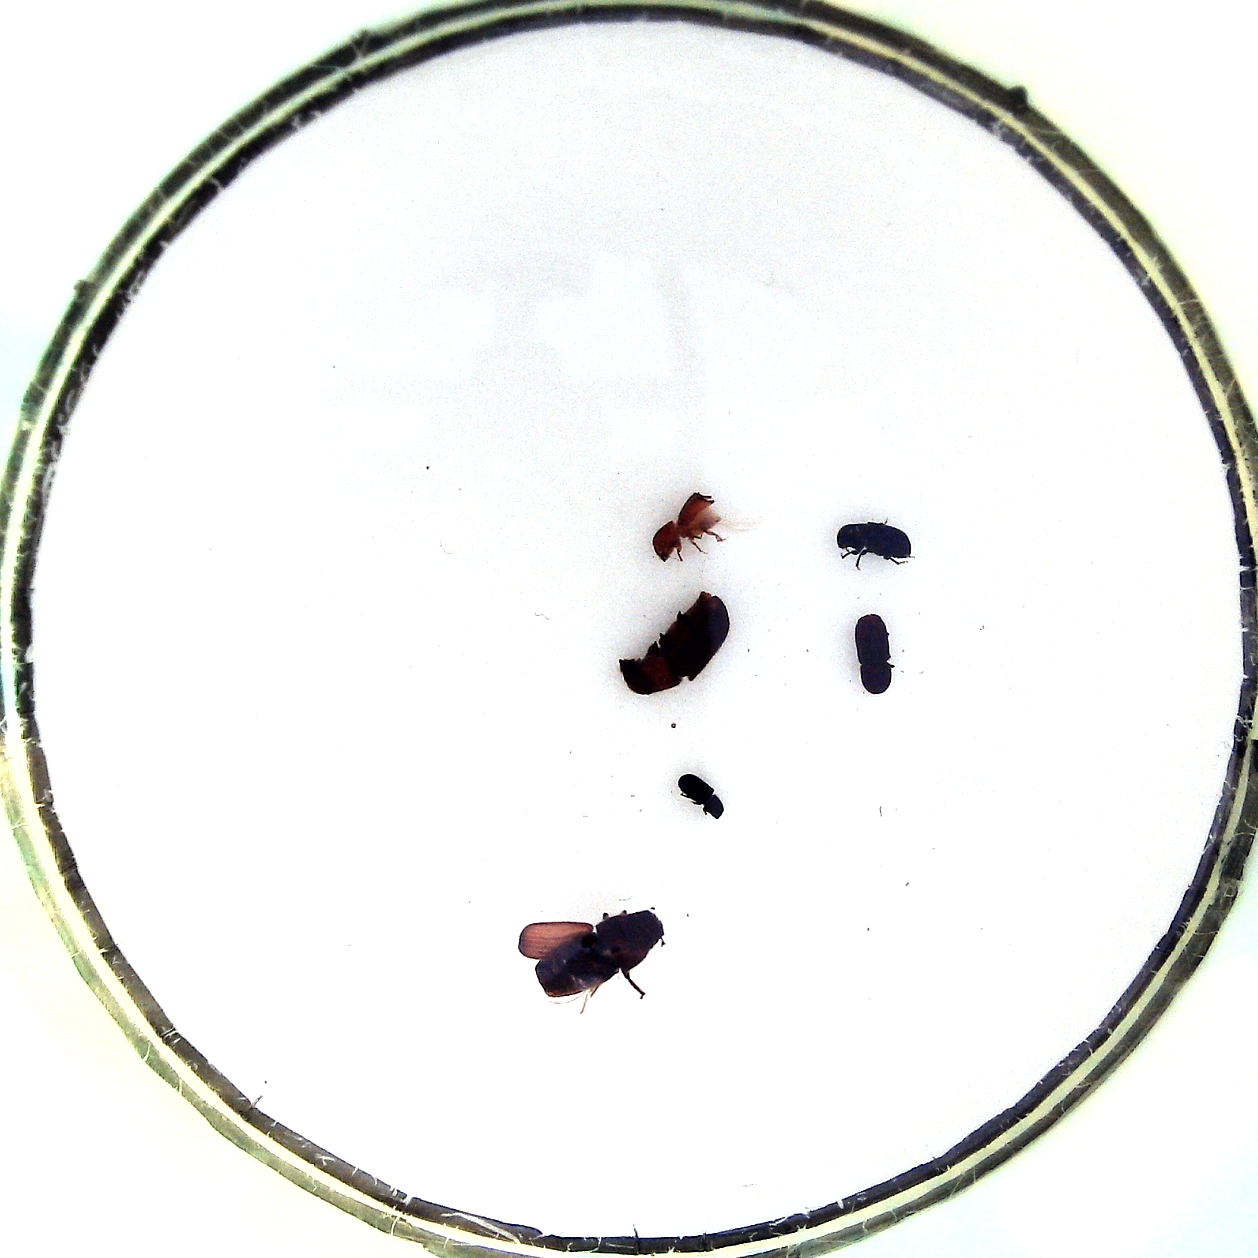Leconte: (516, 904, 665, 1005), (616, 588, 732, 698)
Linnaeus: (852, 611, 899, 698)
acuminatus: (652, 488, 732, 564)
armandi: (835, 517, 914, 568)
coleoptera: (676, 768, 727, 819)
